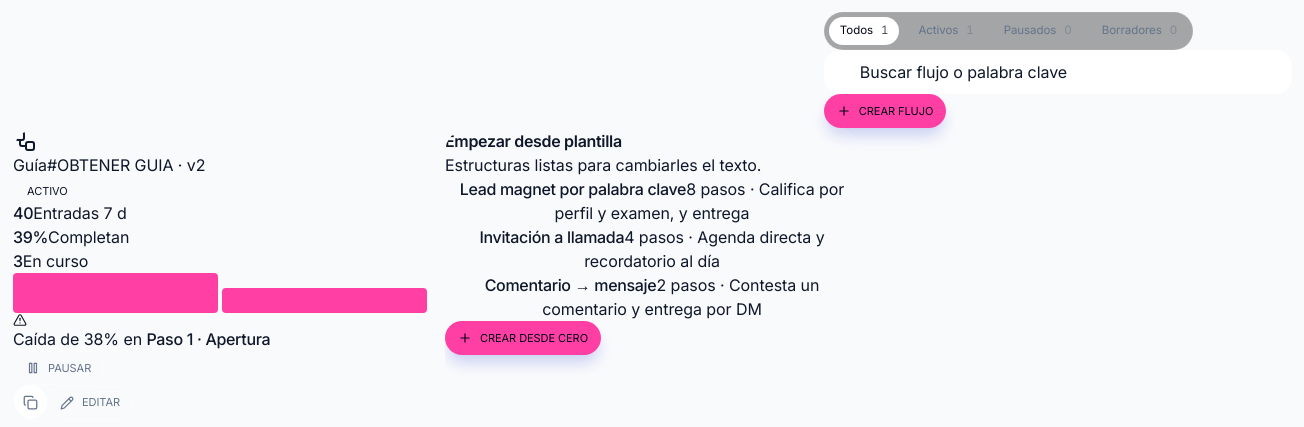
Inbox › Flujos › abre el lienzo con las cajas numeradas, el copy y el % por salida
This screenshot has width=1304, height=427.
Click the button "Guía": (30, 165) [13,153,47,177]
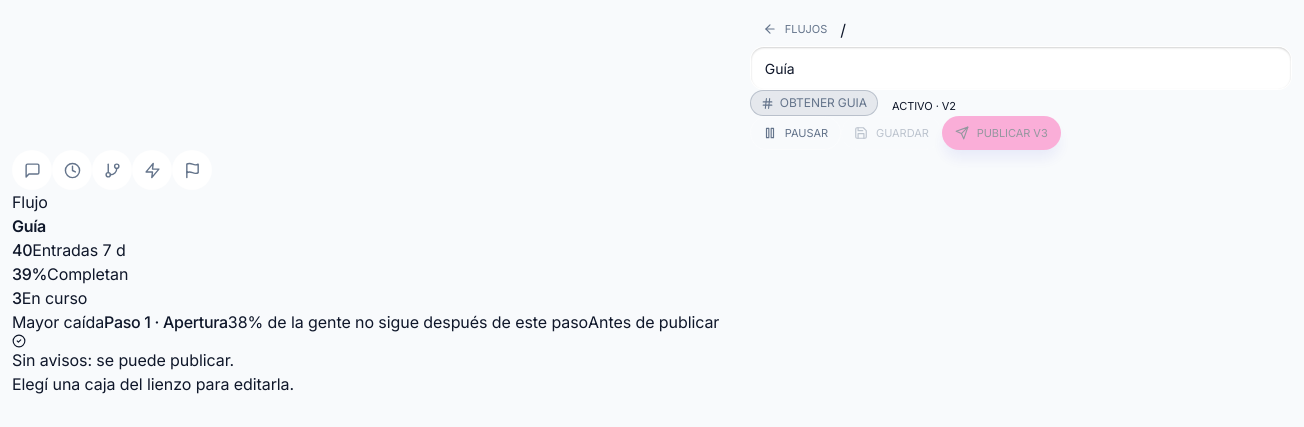
Expected: the button "Publicar v3" is shown, [942,116,1061,150]
Expected: the text "Sin avisos: se puede publicar." is shown, [12,334,234,370]
